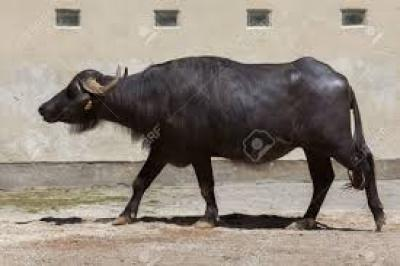buffalo: (36, 56, 387, 233)
